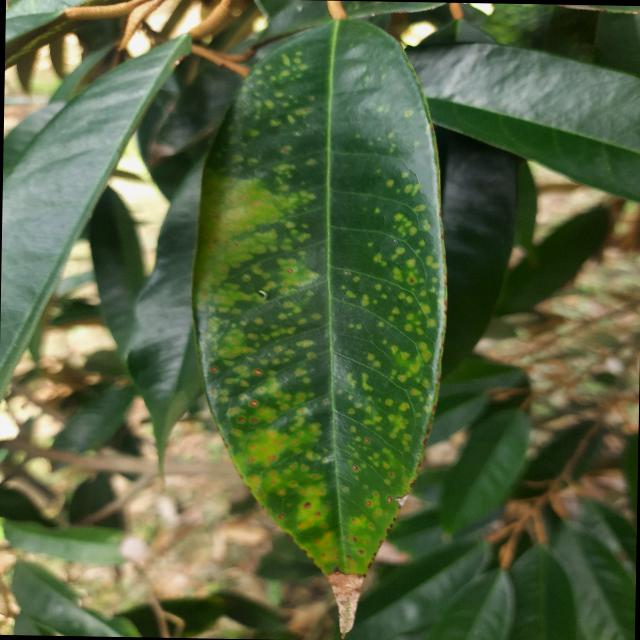Leaf Spot: (181, 6, 460, 639)
